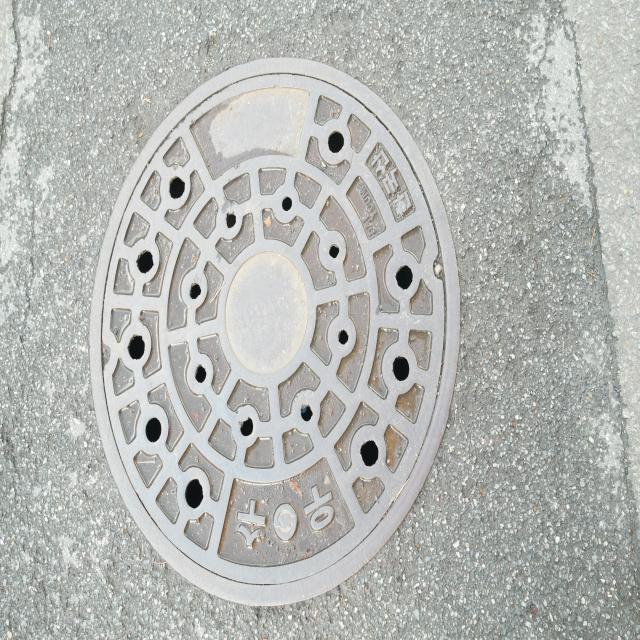manhole: (90, 58, 459, 604)
